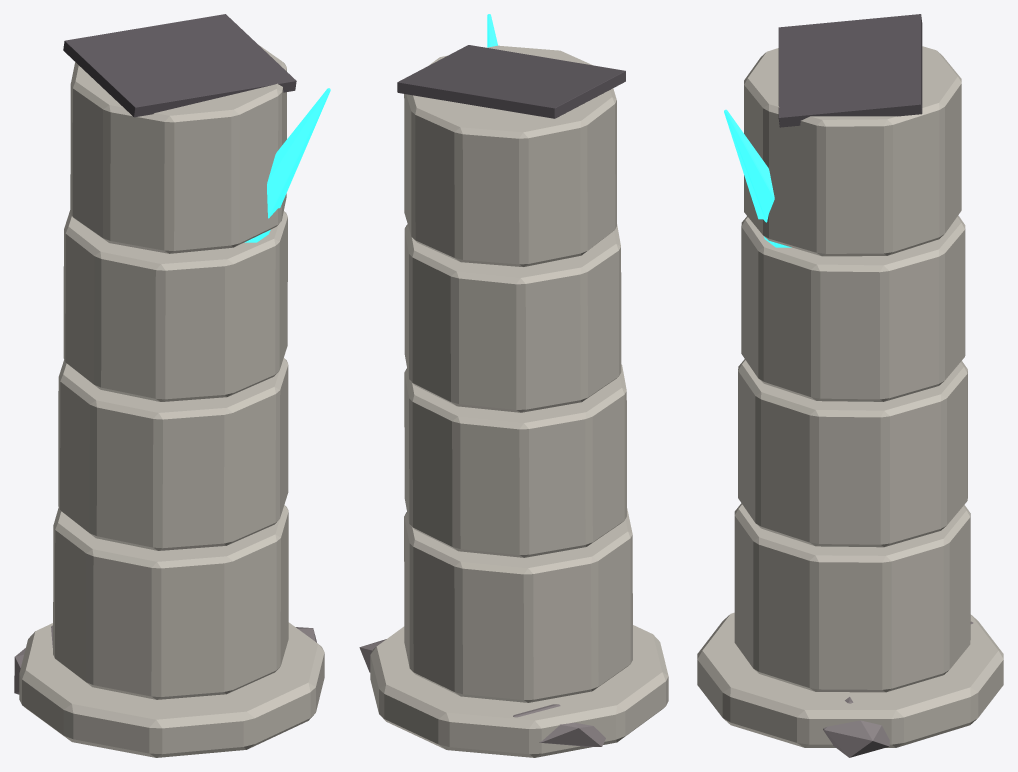
Rendered from runtime.glb.
The picture shows the model from 3 angles, left to right: view 1: azimuth 30°, elevation 25°; view 2: azimuth 150°, elevation 25°; view 3: azimuth 270°, elevation 25°; orthographic projection. The views are drawn at different scales.
Parts seen in each view (by area): view 1: crystal-ruins-damaged-column-v01_shaft_00_nocol, crystal-ruins-damaged-column-v01_shaft_01_nocol, crystal-ruins-damaged-column-v01_shaft_02_nocol, crystal-ruins-damaged-column-v01_shaft_03_nocol, crystal-ruins-damaged-column-v01_base_nocol, crystal-ruins-damaged-column-v01_fracture_00_nocol, crystal-ruins-damaged-column-v01_crystal_00_nocol; view 2: crystal-ruins-damaged-column-v01_shaft_00_nocol, crystal-ruins-damaged-column-v01_shaft_03_nocol, crystal-ruins-damaged-column-v01_shaft_01_nocol, crystal-ruins-damaged-column-v01_shaft_02_nocol, crystal-ruins-damaged-column-v01_base_nocol, crystal-ruins-damaged-column-v01_fracture_00_nocol, crystal-ruins-damaged-column-v01_deposit_01_nocol; view 3: crystal-ruins-damaged-column-v01_shaft_00_nocol, crystal-ruins-damaged-column-v01_shaft_01_nocol, crystal-ruins-damaged-column-v01_shaft_02_nocol, crystal-ruins-damaged-column-v01_shaft_03_nocol, crystal-ruins-damaged-column-v01_base_nocol, crystal-ruins-damaged-column-v01_fracture_00_nocol, crystal-ruins-damaged-column-v01_crystal_00_nocol, crystal-ruins-damaged-column-v01_deposit_00_nocol.
Boxes of the visible parts, x1=… form: crystal-ruins-damaged-column-v01_shaft_00_nocol: x1=53, y1=505, x2=288, y2=699; crystal-ruins-damaged-column-v01_shaft_01_nocol: x1=58, y1=358, x2=288, y2=550; crystal-ruins-damaged-column-v01_shaft_02_nocol: x1=63, y1=210, x2=287, y2=401; crystal-ruins-damaged-column-v01_shaft_03_nocol: x1=70, y1=44, x2=286, y2=253; crystal-ruins-damaged-column-v01_base_nocol: x1=19, y1=622, x2=324, y2=757; crystal-ruins-damaged-column-v01_fracture_00_nocol: x1=63, y1=14, x2=296, y2=117; crystal-ruins-damaged-column-v01_crystal_00_nocol: x1=244, y1=88, x2=330, y2=242; crystal-ruins-damaged-column-v01_shaft_00_nocol: x1=404, y1=508, x2=632, y2=702; crystal-ruins-damaged-column-v01_shaft_03_nocol: x1=404, y1=45, x2=616, y2=266; crystal-ruins-damaged-column-v01_shaft_01_nocol: x1=404, y1=364, x2=626, y2=557; crystal-ruins-damaged-column-v01_shaft_02_nocol: x1=404, y1=224, x2=621, y2=412; crystal-ruins-damaged-column-v01_base_nocol: x1=370, y1=625, x2=668, y2=757; crystal-ruins-damaged-column-v01_fracture_00_nocol: x1=397, y1=45, x2=625, y2=118; crystal-ruins-damaged-column-v01_deposit_01_nocol: x1=513, y1=704, x2=605, y2=746; crystal-ruins-damaged-column-v01_shaft_00_nocol: x1=734, y1=503, x2=970, y2=692; crystal-ruins-damaged-column-v01_shaft_01_nocol: x1=738, y1=359, x2=967, y2=547; crystal-ruins-damaged-column-v01_shaft_02_nocol: x1=741, y1=215, x2=965, y2=401; crystal-ruins-damaged-column-v01_shaft_03_nocol: x1=744, y1=46, x2=961, y2=256; crystal-ruins-damaged-column-v01_base_nocol: x1=697, y1=612, x2=1003, y2=747; crystal-ruins-damaged-column-v01_fracture_00_nocol: x1=778, y1=14, x2=922, y2=127; crystal-ruins-damaged-column-v01_crystal_00_nocol: x1=724, y1=109, x2=791, y2=247; crystal-ruins-damaged-column-v01_deposit_00_nocol: x1=823, y1=697, x2=889, y2=757.
Bounding box in the file's own units: 2.83 × 6.22 × 2.69.
